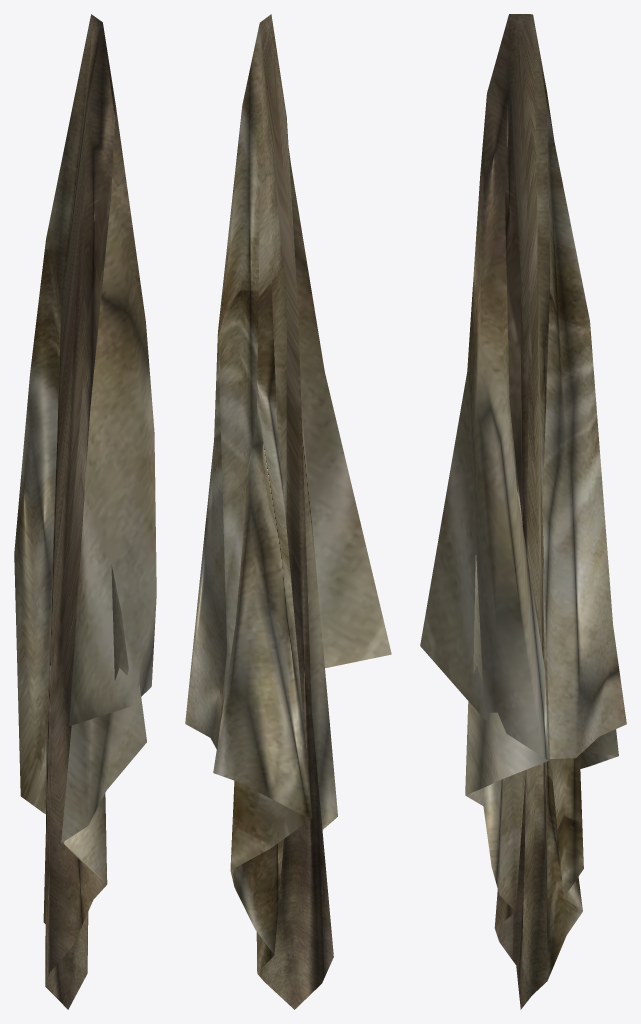
The model's file is KM_VOB_HANGINGCLOTH_03.glb.
3 renders of one model, left to right at view 1: azimuth 30°, elevation 25°; view 2: azimuth 150°, elevation 25°; view 3: azimuth 270°, elevation 25°, orthographic. The views are drawn at different scales.
Parts seen in each view (by area): view 1: Mesh; view 2: Mesh; view 3: Mesh.
Part boxes in pixels (left/top/right/bottom): Mesh: left=14, top=14, right=156, bottom=1009; Mesh: left=185, top=14, right=391, bottom=1009; Mesh: left=420, top=14, right=626, bottom=1009.
Size of the model in its own units: 0.2512 by 1.66 by 0.3086.
1 material, 1 textured.
